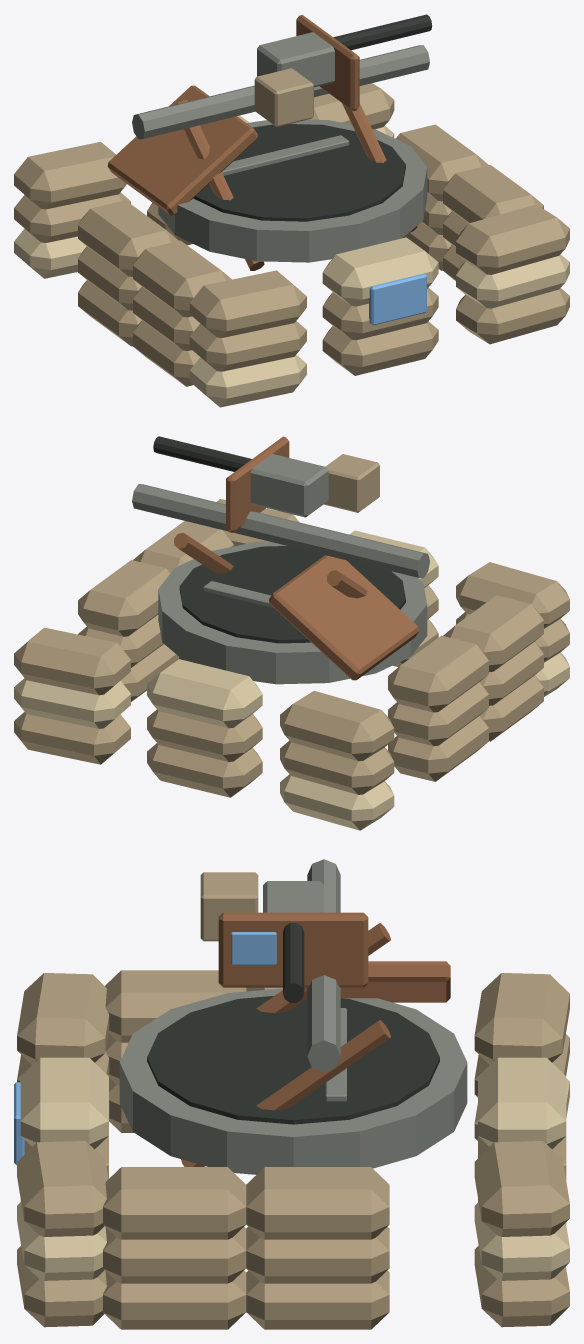
The model's file is tunnel_network.glb.
3 renders of one model, top to bottom at view 1: azimuth 30°, elevation 25°; view 2: azimuth 150°, elevation 25°; view 3: azimuth 270°, elevation 25°, orthographic. The views are drawn at different scales.
Parts seen in each view (by area): view 1: Hull, Turret; view 2: Hull, Turret; view 3: Hull, Turret.
Part boxes in pixels (<box>): Hull: <box>14,45,569,407</box>; Turret: <box>254,14,432,126</box>; Hull: <box>14,484,569,830</box>; Turret: <box>153,436,379,532</box>; Hull: <box>14,859,569,1329</box>; Turret: <box>200,872,368,1002</box>.
Size of the model in its own units: 1.8 by 1.17 by 1.8.
